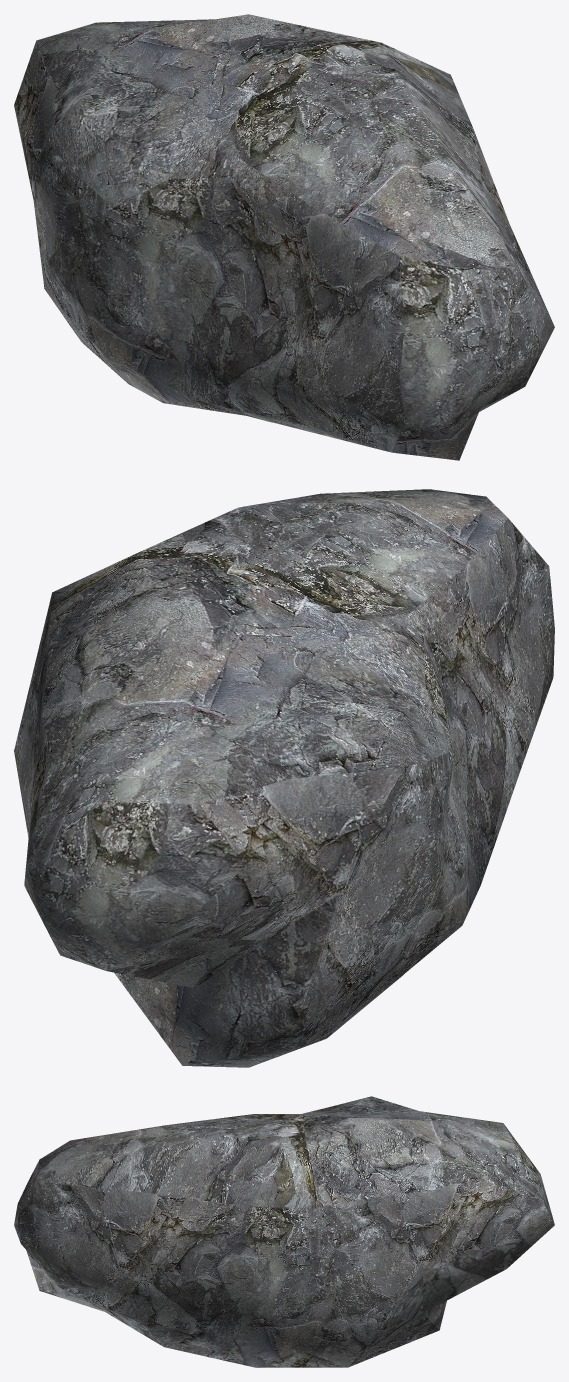
File: Rock002.fbx
3 views of the same model, one above another, from view 1: azimuth 30°, elevation 25°; view 2: azimuth 150°, elevation 25°; view 3: azimuth 270°, elevation 25° (orthographic). The views are drawn at different scales.
Visible parts, largest first — view 1: Icosphere; view 2: Icosphere; view 3: Icosphere.
Part boxes in pixels (x1,y1,x2,y2): Icosphere: (14, 14, 554, 460); Icosphere: (14, 489, 554, 1067); Icosphere: (14, 1096, 554, 1367).
Bounding box in the file's own units: 557 × 546 × 1053.
1 material, 1 textured.
